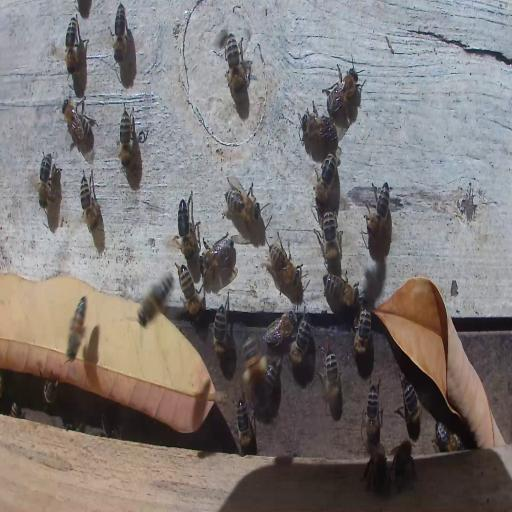bee: (326, 63, 362, 119), (296, 101, 336, 151), (222, 180, 262, 228), (241, 335, 268, 401), (64, 292, 89, 361), (61, 98, 94, 150), (137, 279, 173, 325), (223, 36, 249, 98), (176, 194, 200, 261), (266, 240, 298, 289), (319, 348, 342, 409), (176, 264, 201, 320), (318, 209, 341, 268), (366, 181, 391, 235), (79, 170, 100, 234), (200, 238, 232, 278), (400, 380, 424, 433), (314, 152, 337, 206), (363, 380, 382, 443), (365, 445, 390, 491), (351, 304, 373, 355), (235, 397, 254, 456), (289, 318, 311, 368), (324, 274, 356, 307), (263, 313, 296, 345), (393, 437, 415, 484), (118, 107, 134, 170), (112, 2, 127, 64), (38, 152, 53, 210), (434, 424, 463, 454), (212, 302, 228, 356), (65, 15, 78, 74), (43, 378, 59, 406), (10, 402, 24, 417)
